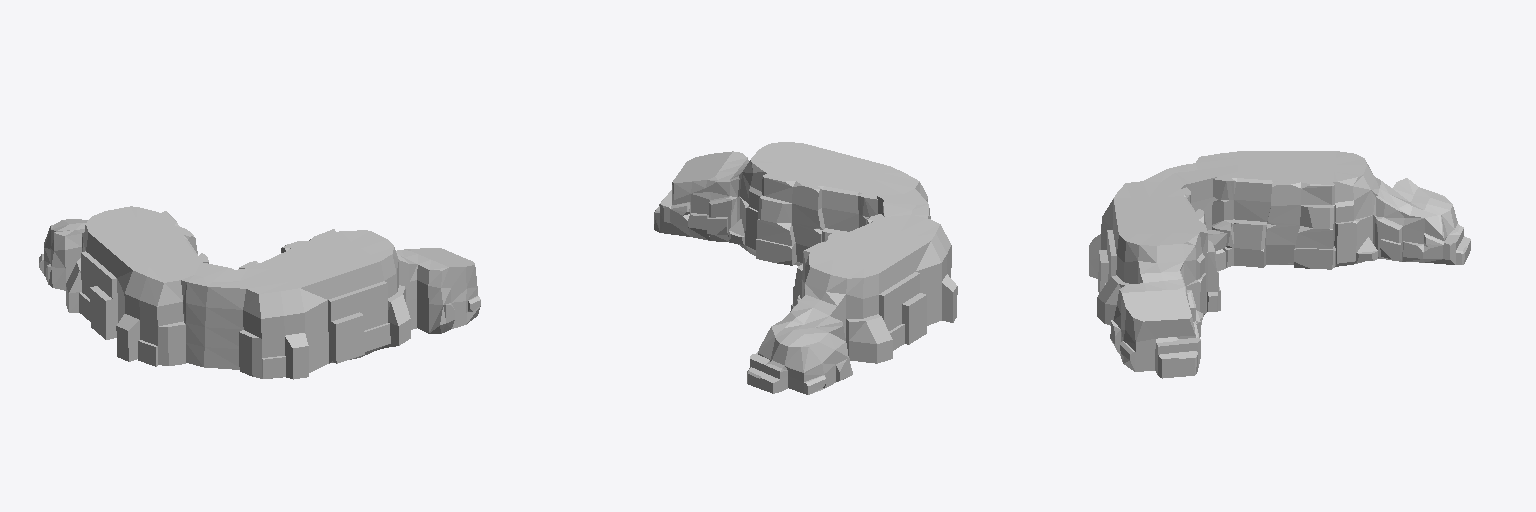
File: skala_1.obj
The picture shows the model from 3 angles: view 1: azimuth 30°, elevation 25°; view 2: azimuth 150°, elevation 25°; view 3: azimuth 270°, elevation 25°; orthographic projection.
Visible parts, largest first — view 1: Cylinder.003; view 2: Cylinder.003; view 3: Cylinder.003.
Boxes of the visible parts, box(x1,y1,x2,y2) form: Cylinder.003: box(39, 206, 480, 379); Cylinder.003: box(654, 142, 957, 394); Cylinder.003: box(1089, 151, 1470, 378).
Size of the model in its own units: 81.05 by 21.27 by 82.69.